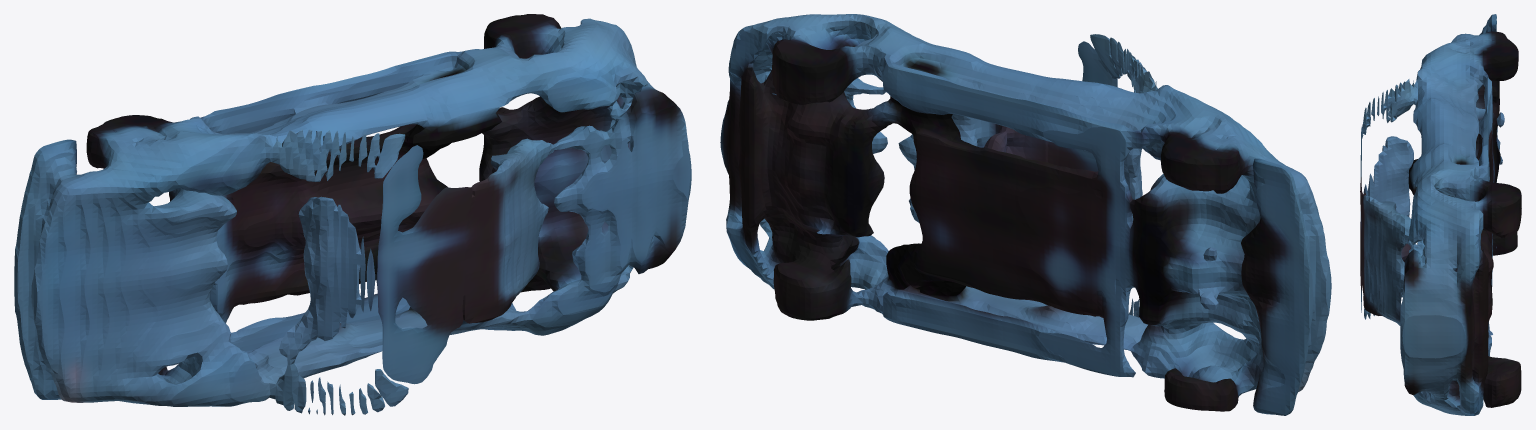
File: broken_car_525316.glb
3 views of the same model, side by side, from view 1: azimuth 30°, elevation 25°; view 2: azimuth 150°, elevation 25°; view 3: azimuth 270°, elevation 25° (orthographic). The views are drawn at different scales.
Parts seen in each view (by area): view 1: world; view 2: world; view 3: world.
Part boxes in pixels (x1,y1,x2,y2): world: [14, 14, 691, 415]; world: [720, 14, 1331, 415]; world: [1360, 14, 1521, 415].
Size of the model in its own units: 1.98 by 0.8727 by 0.5765.
